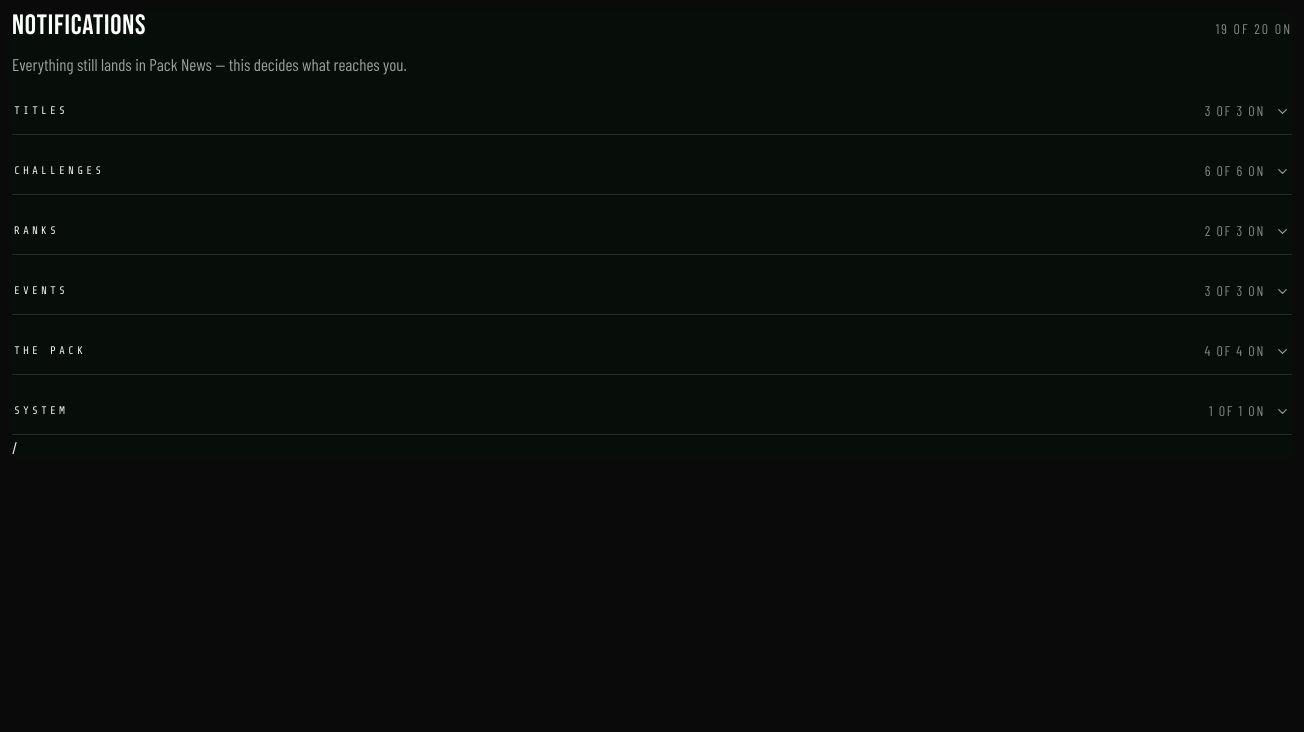
NotificationSettingsPanel › en sektion fälls ihop och ut av sin rubrik, och startar hopfälld om panelen ber om det
Click the button "Titles 3 of 3 on" at {"x": 41, "y": 111}, box [12,89,1292,135]
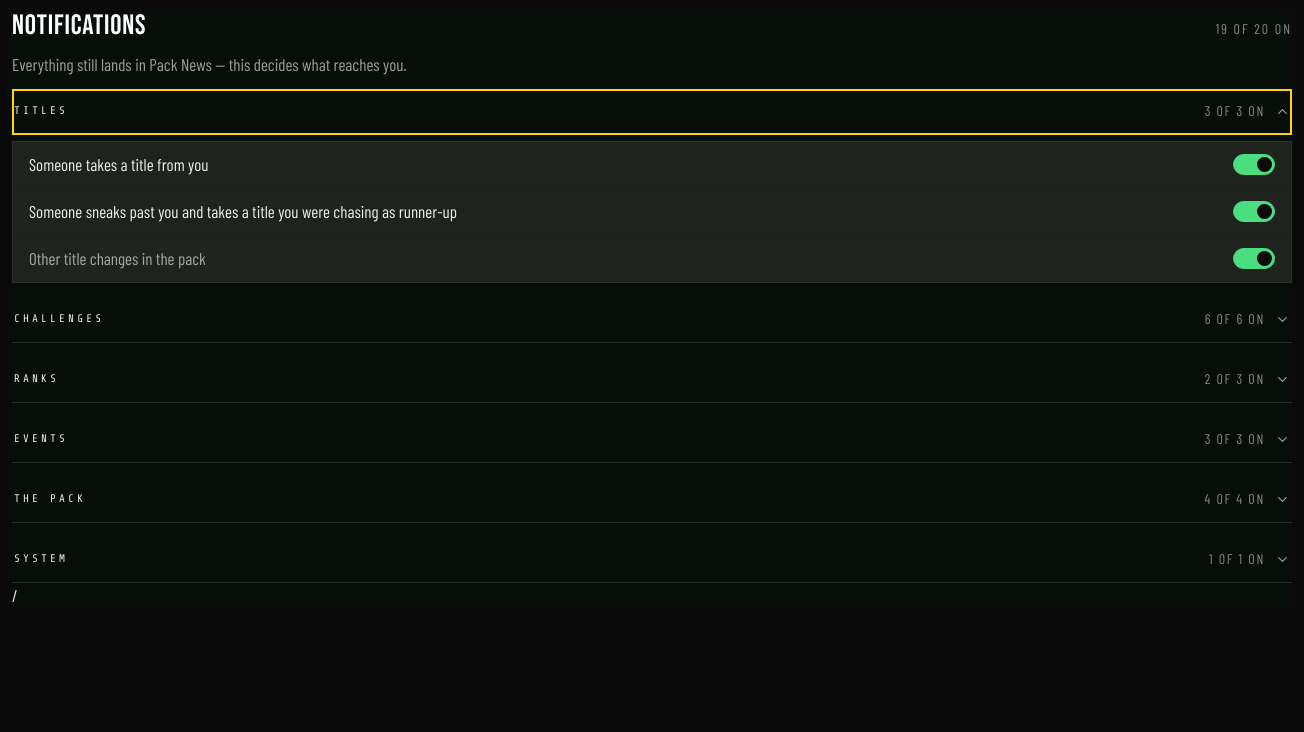
Now the button "Titles 3 of 3 on" is expanded, box [12,89,1292,135]
Now the number of switches is 3, box [13,142,1291,188]; [13,189,1291,235]; [13,236,1291,282]
